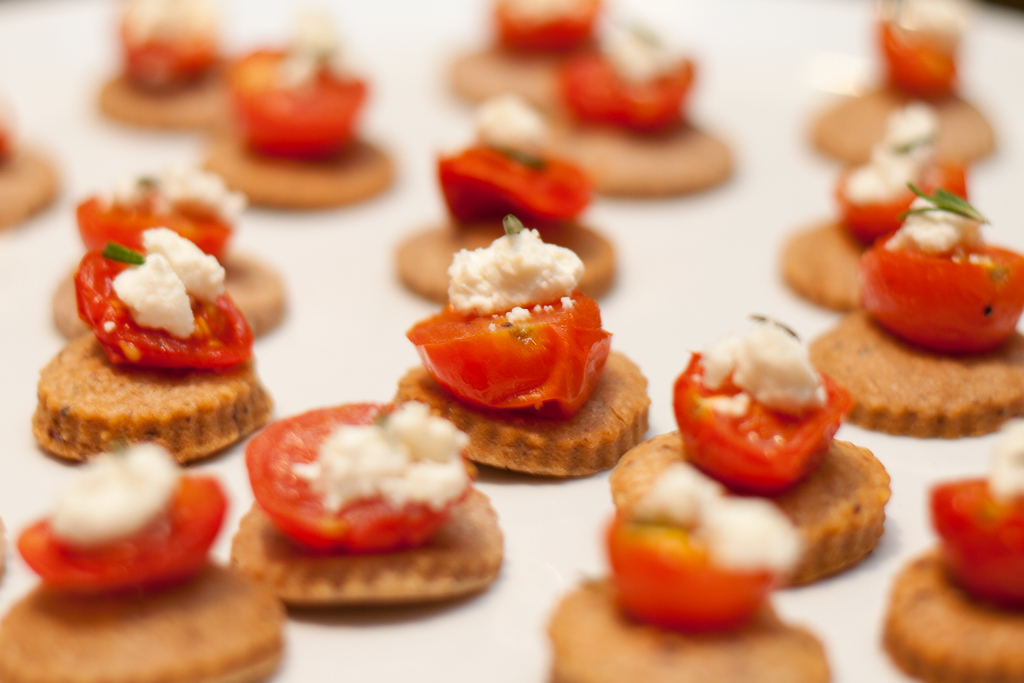Tomato: (246, 397, 474, 550), (404, 284, 614, 416), (672, 350, 856, 492), (17, 471, 228, 588), (601, 492, 776, 633), (72, 245, 253, 366), (859, 236, 1023, 350), (230, 46, 365, 157), (435, 144, 594, 229), (73, 190, 236, 265), (559, 42, 696, 131), (835, 152, 967, 238), (930, 476, 1023, 597), (121, 13, 217, 90), (874, 21, 962, 96), (493, 0, 600, 52), (1, 111, 14, 162)
